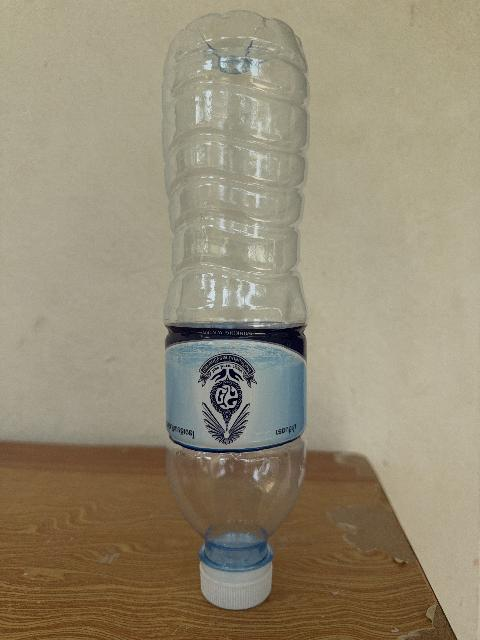bottle: (163, 11, 308, 608)
